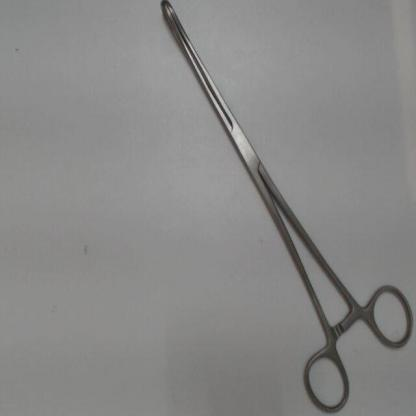Sponge Forceps: (153, 0, 415, 415)
